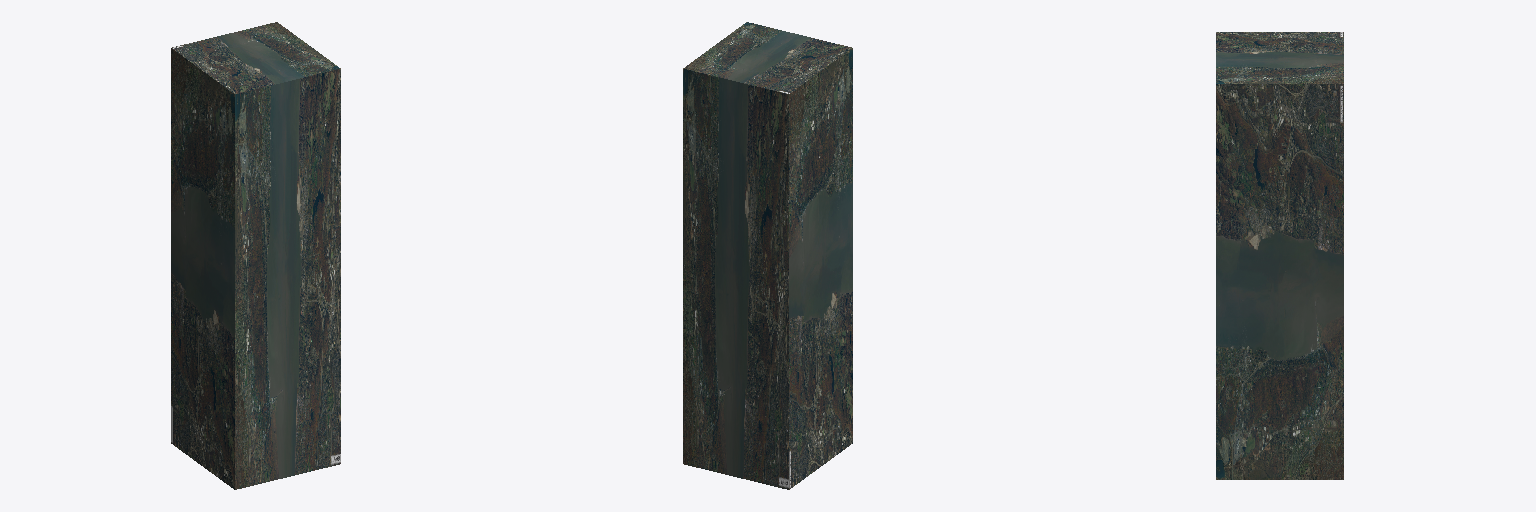
3 views of the same model, side by side, from view 1: azimuth 30°, elevation 25°; view 2: azimuth 150°, elevation 25°; view 3: azimuth 270°, elevation 25° (orthographic).
Visible parts, largest first — view 1: Box001; view 2: Box001; view 3: Box001.
Boxes of the visible parts, x1,y1,x2,y2 form: Box001: [171, 22, 340, 489]; Box001: [683, 22, 852, 489]; Box001: [1216, 32, 1343, 479].
Bounding box in the file's own units: 17.04 × 60.74 × 17.75.
Materials: 1 (1 with a texture image).